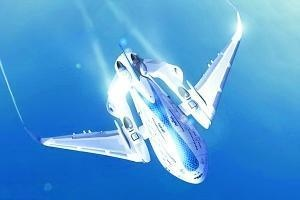airplane: (38, 15, 264, 177)
